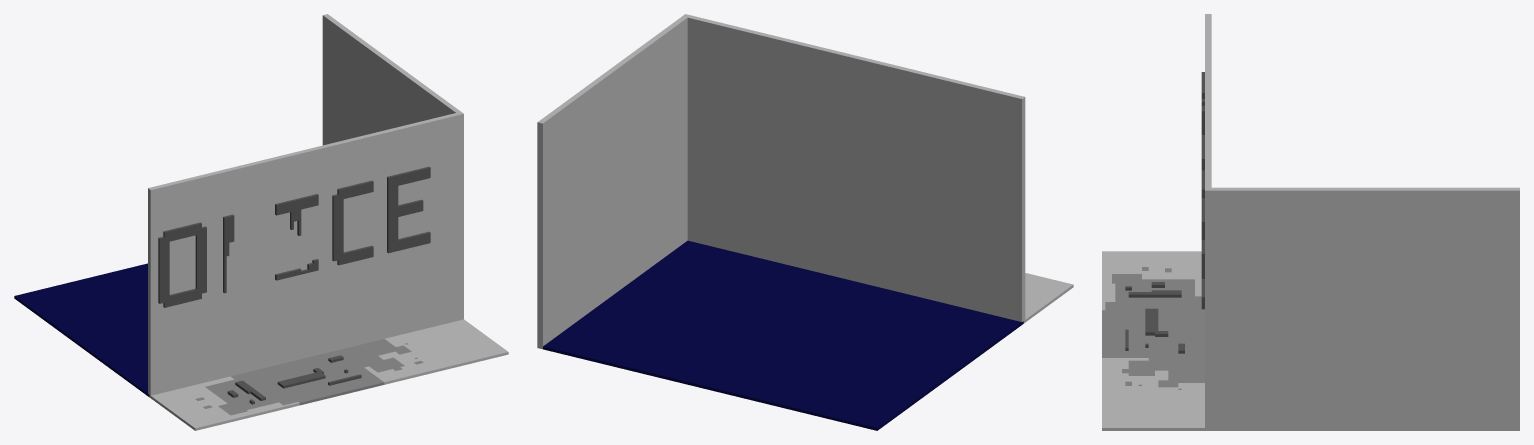
Rendered from 2x2 second (1)-3.obj.
The picture shows the model from 3 angles, left to right: view 1: azimuth 30°, elevation 25°; view 2: azimuth 150°, elevation 25°; view 3: azimuth 270°, elevation 25°; orthographic projection. The views are drawn at different scales.
Visible parts, largest first — view 1: 2x2 second (1)-3; view 2: 2x2 second (1)-3; view 3: 2x2 second (1)-3.
Part boxes in pixels (x1,y1,x2,y2): 2x2 second (1)-3: (14,14,508,430); 2x2 second (1)-3: (537,14,1073,430); 2x2 second (1)-3: (1102,14,1519,430).
Bounding box in the file's own units: 126 × 80 × 126.
Materials: 1 (1 with a texture image).
